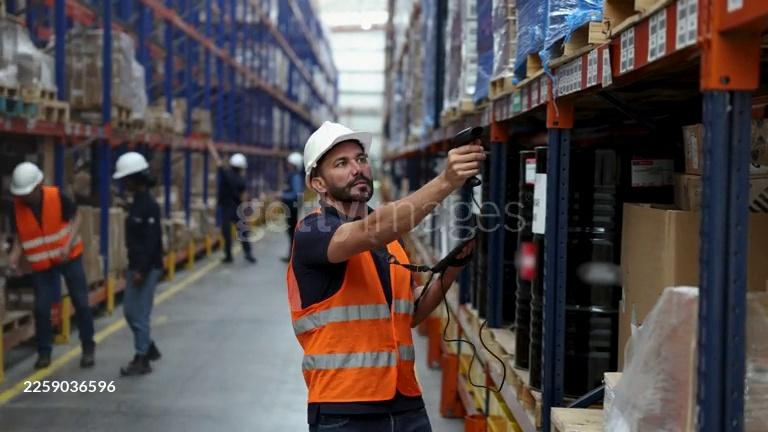helmet: (303, 121, 371, 179), (8, 160, 45, 196), (112, 151, 150, 179), (229, 154, 247, 169), (288, 152, 304, 166)
person: (282, 122, 489, 432), (2, 161, 96, 371), (111, 152, 168, 380), (215, 153, 256, 266), (280, 152, 306, 264)
